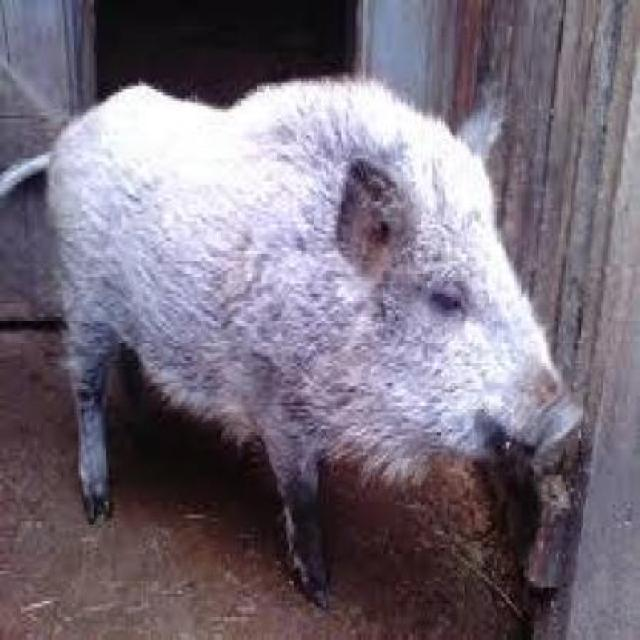wildboar: (0, 64, 592, 615)
